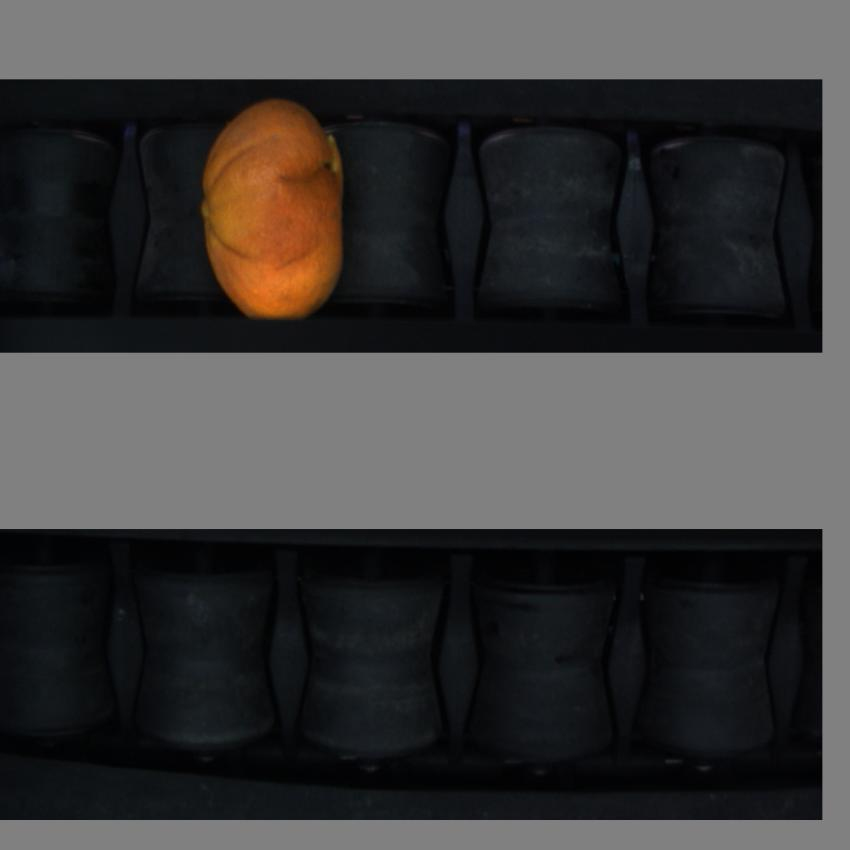Mal estado: (197, 95, 358, 324)
